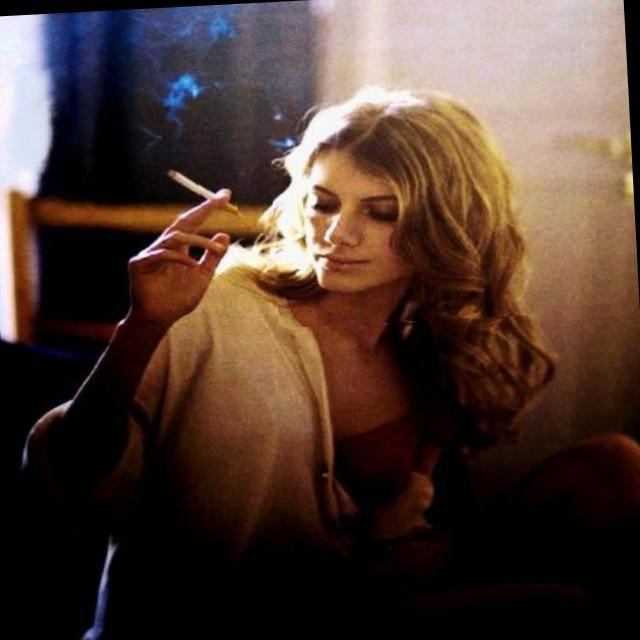cigarette: (146, 156, 238, 228)
